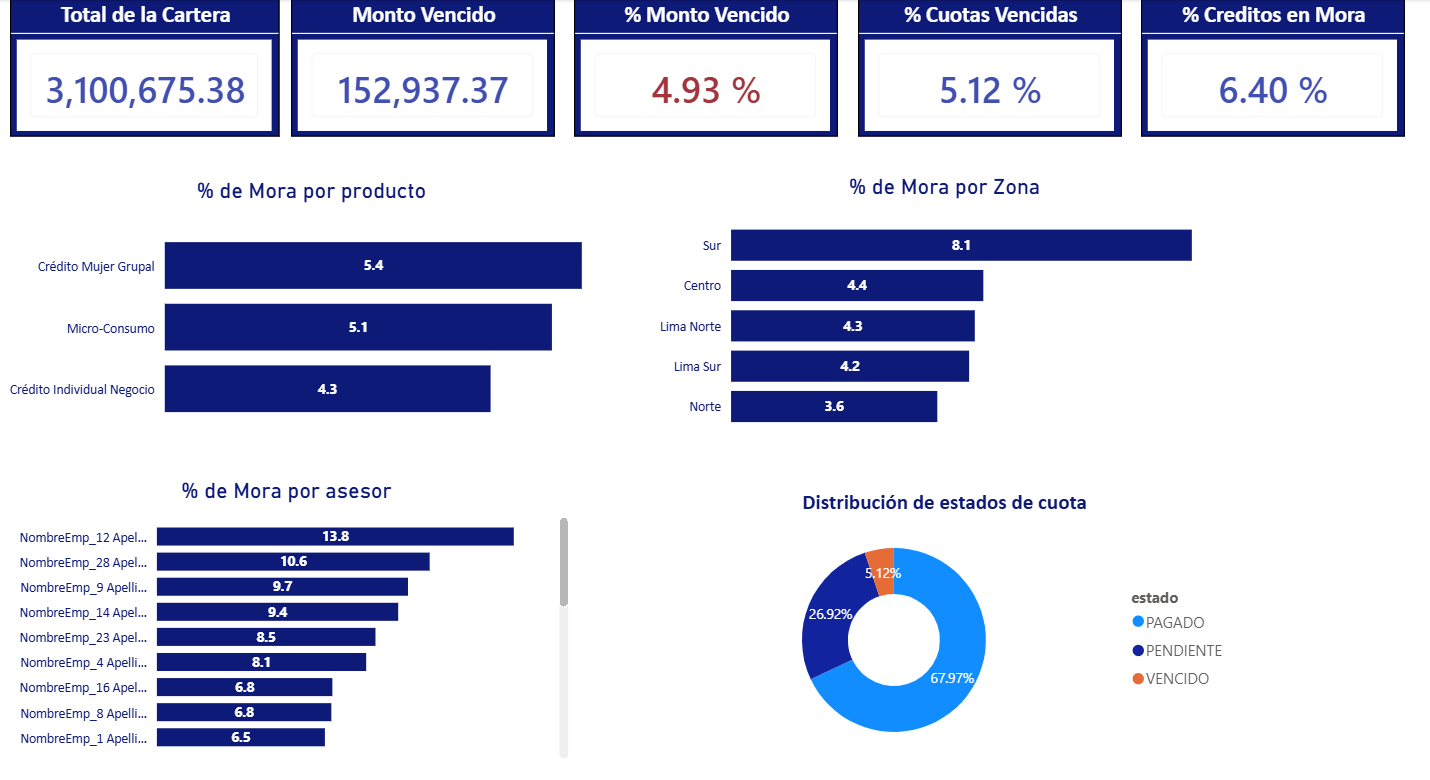

Layout of this report page (visuals, bound fields, positions):
{"tool":"powerbi","page":{"name":"Resumen Ejecutivo","canvas":[1280,720],"ordinal":0},"visuals":[{"type":"cardVisual","title":"Total de la Cartera","fields":{"Data":["metricas 1.Cartera Total"]},"box":[10.1,0,238.8,122.4],"z":0},{"type":"cardVisual","title":"% Creditos en Mora","fields":{"Data":["metricas 1.% Créditos con Mora"]},"box":[1012.9,0,233.7,122.4],"z":1000},{"type":"cardVisual","title":"% Cuotas Vencidas","fields":{"Data":["metricas 1.% Cuotas Vencidas"]},"box":[761.9,0,233.7,122.4],"z":2000},{"type":"cardVisual","title":"% Monto Vencido","fields":{"Data":["metricas 1.% Monto Vencido"]},"box":[510,0,233.7,122.4],"z":3000},{"type":"cardVisual","title":"Monto Vencido","fields":{"Data":["metricas 1.Monto Vencido"]},"box":[259,0,233.7,122.4],"z":4000},{"type":"barChart","title":"% de Mora por asesor","fields":{"Category":["pbi_mora_asesor.asesor"],"Y":["Sum(pbi_mora_asesor.pct_mora)"]},"box":[0,424.7,509.9,253.6],"z":5000},{"type":"barChart","title":"% de Mora por Zona","fields":{"Category":["pbi_mora_zona.zona"],"Y":["Sum(pbi_mora_zona.pct_mora)"]},"box":[577.9,155.4,520.8,240.3],"z":6000},{"type":"barChart","title":"% de Mora por producto","fields":{"Category":["pbi_mora_producto.producto"],"Y":["Sum(pbi_mora_producto.pct_mora)"]},"box":[0,158.7,554.2,236.7],"z":7000},{"type":"donutChart","title":"Distribución de estados de cuota","fields":{"Category":["base_vintage_detalle.estado"],"Y":["CountNonNull(base_vintage_detalle.id_cuota)"]},"box":[577.9,434.1,520.8,244.7],"z":8000}]}

Visuals, with their boxes on the page's 1280x720 design canvas (x1, y1, x2, y2). These are canvas units, not pixel positions in the 1430x780 screenshot, which may show the page scaled, cropped or inside an application window:
"Total de la Cartera" cardVisual: [left=10, top=0, right=249, bottom=122]
"% Creditos en Mora" cardVisual: [left=1013, top=0, right=1247, bottom=122]
"% Cuotas Vencidas" cardVisual: [left=762, top=0, right=996, bottom=122]
"% Monto Vencido" cardVisual: [left=510, top=0, right=744, bottom=122]
"Monto Vencido" cardVisual: [left=259, top=0, right=493, bottom=122]
"% de Mora por asesor" barChart: [left=0, top=425, right=510, bottom=678]
"% de Mora por Zona" barChart: [left=578, top=155, right=1099, bottom=396]
"% de Mora por producto" barChart: [left=0, top=159, right=554, bottom=395]
"Distribución de estados de cuota" donutChart: [left=578, top=434, right=1099, bottom=679]
